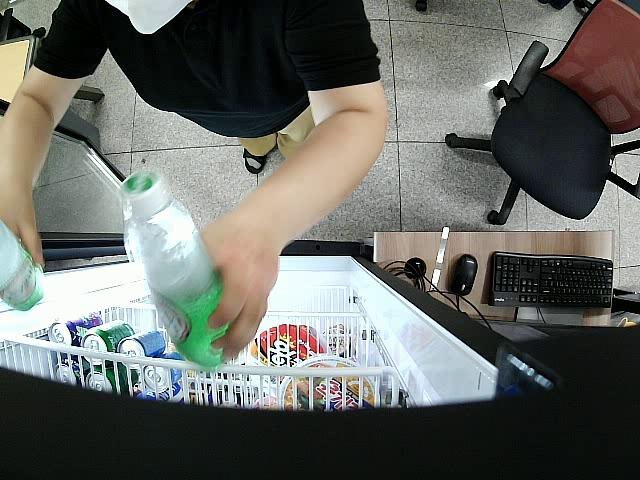00_hand: (196, 217, 279, 357), (0, 177, 43, 269)
18_trevi: (124, 173, 231, 366), (0, 214, 47, 316)
